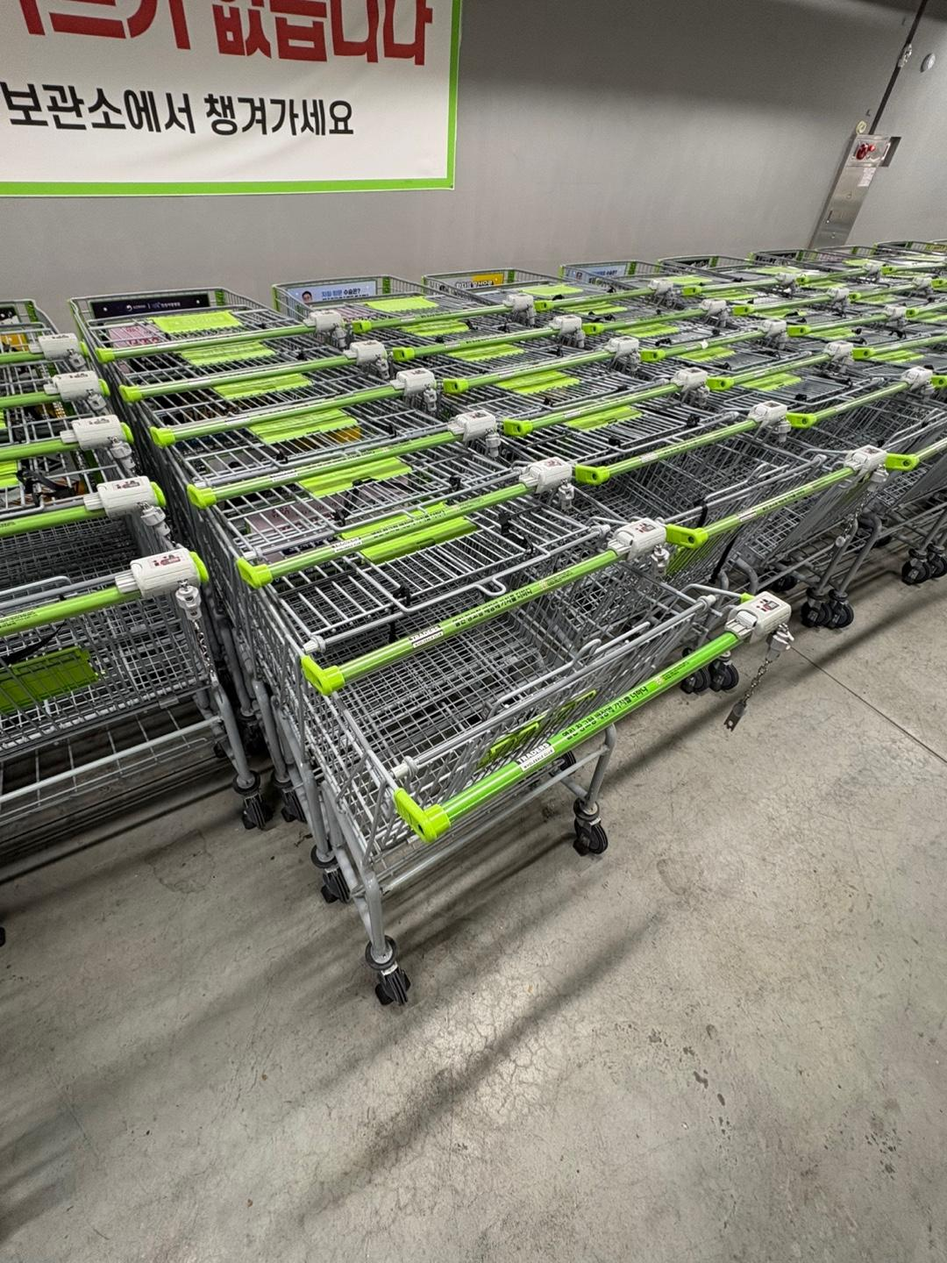combined_cart: (61, 280, 812, 1045), (261, 266, 912, 728)
